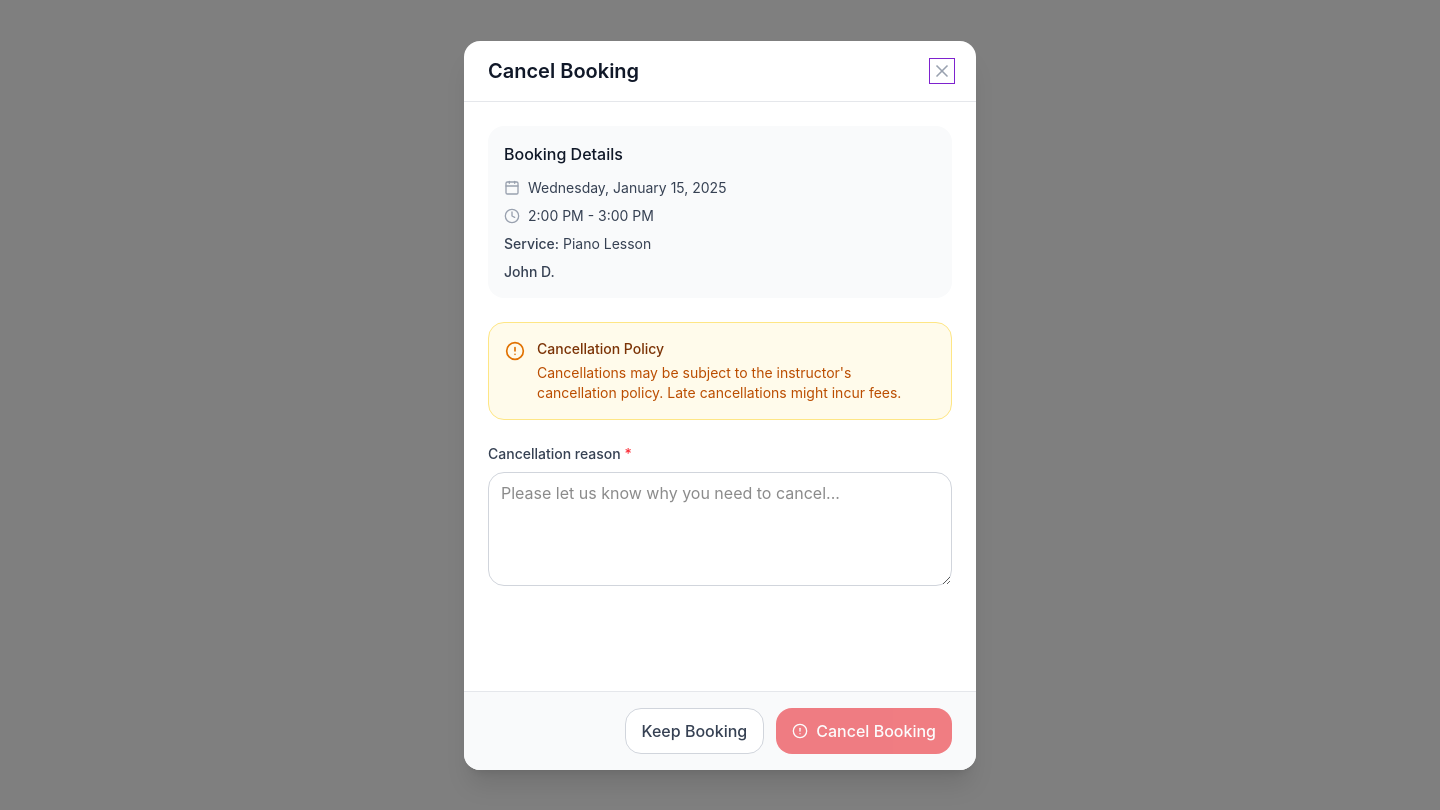
Test: CancelBookingModal › shows loading state during submission
Type "Schedule conflict" into the text box with placeholder "Please let us know why you need to cancel...".
click(720, 528); type("Schedule conflict")  # box [488,472,952,586]
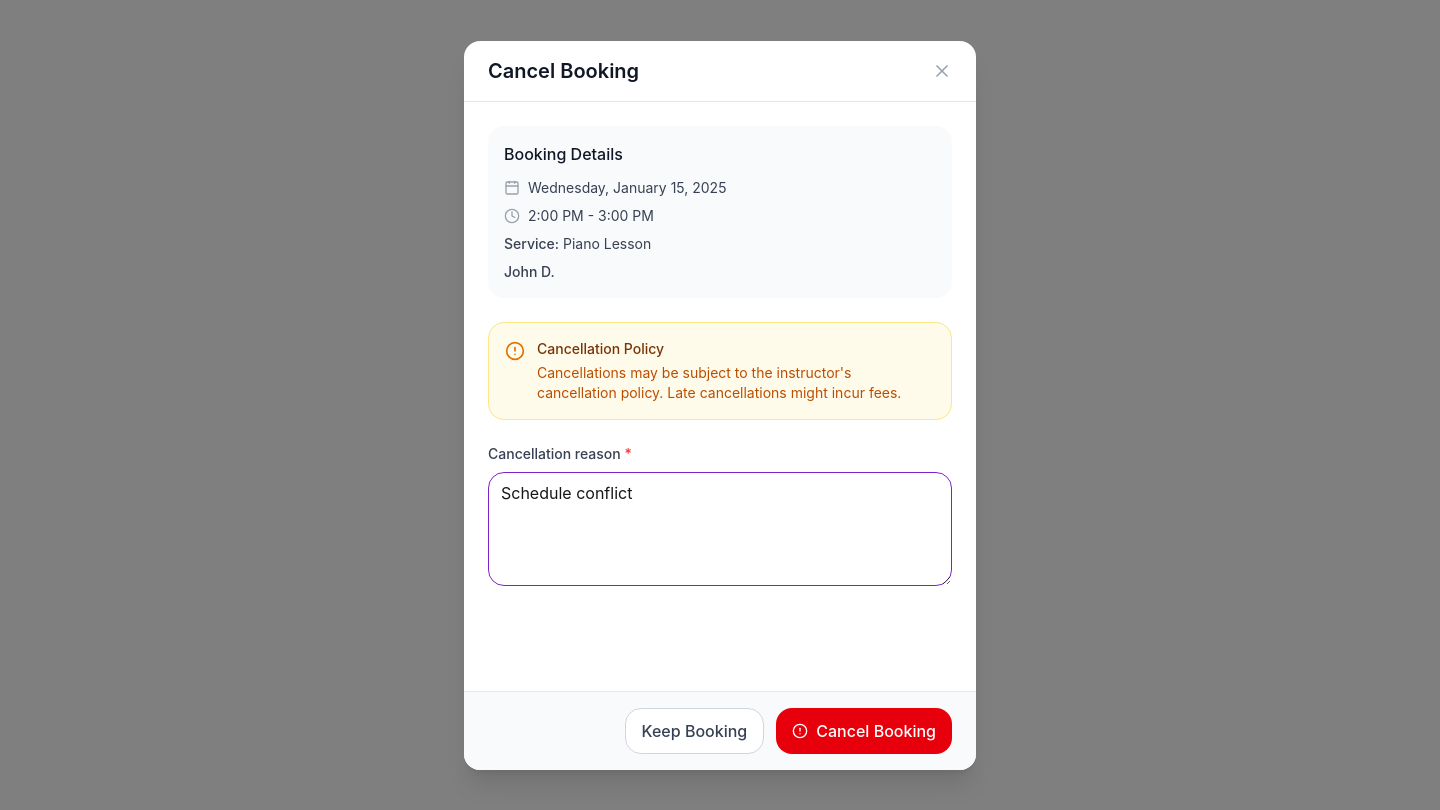
Click the button "Cancel Booking".
click(864, 730)  # box [776,708,952,754]
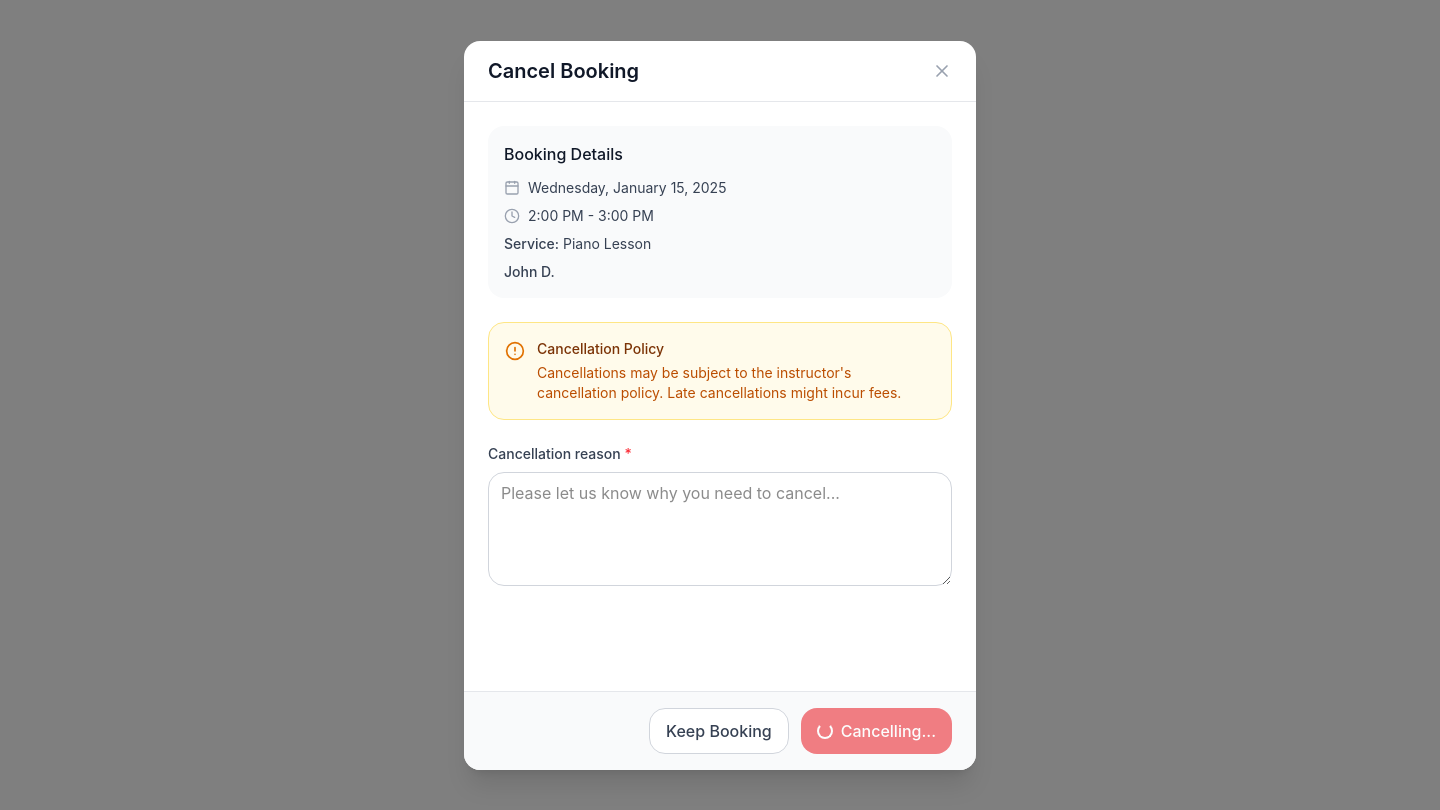
Check: the text "Cancelling..." is shown, box [841,718,936,742]
Check: the button "Keep Booking" is disabled, box [649,708,789,754]
